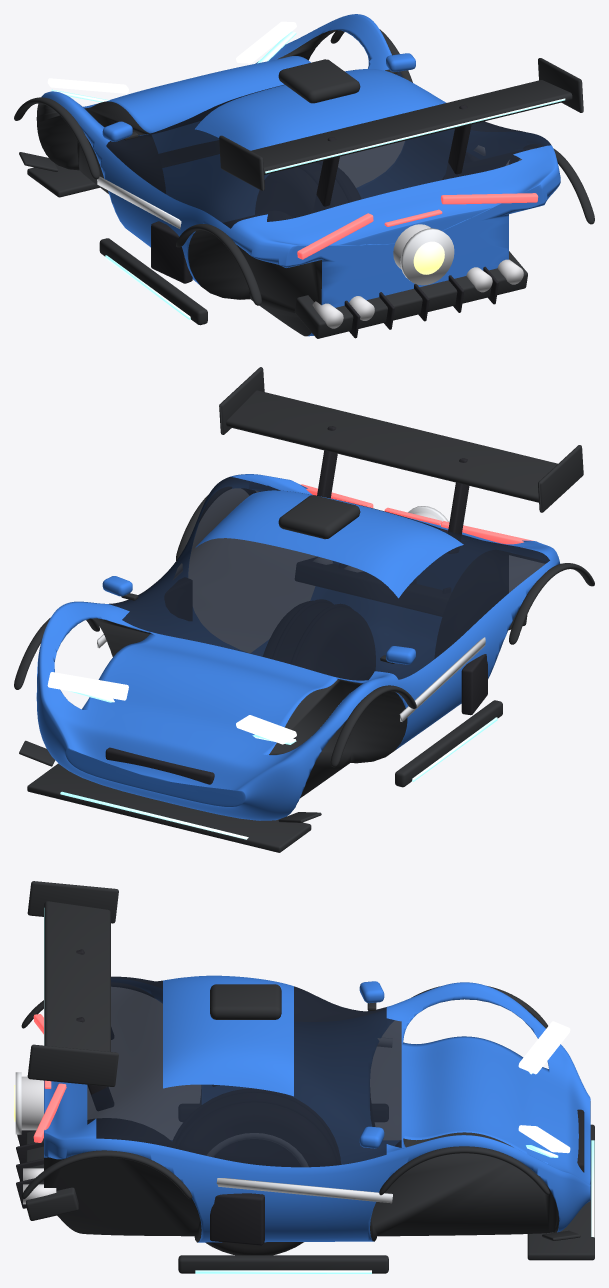
The model's file is velocity_x.glb.
3 views of the same model, one above another, from view 1: azimuth 30°, elevation 25°; view 2: azimuth 150°, elevation 25°; view 3: azimuth 270°, elevation 25° (orthographic). The views are drawn at different scales.
Parts seen in each view (by area): view 1: Body; view 2: Body, Wheel; view 3: Body, Wheel.
Part boxes in pixels (bbox=[...]): Body: bbox=[14, 14, 594, 338]; Body: bbox=[14, 367, 594, 852]; Wheel: bbox=[266, 601, 375, 679]; Body: bbox=[14, 881, 594, 1273]; Wheel: bbox=[175, 1089, 340, 1255].
Bounding box in the file's own units: 0.9869 × 0.7571 × 1.38.
